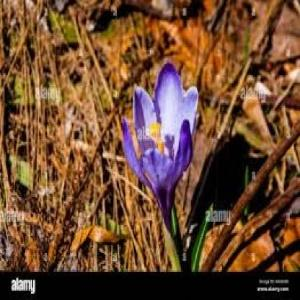Saffron: (119, 65, 199, 229)
